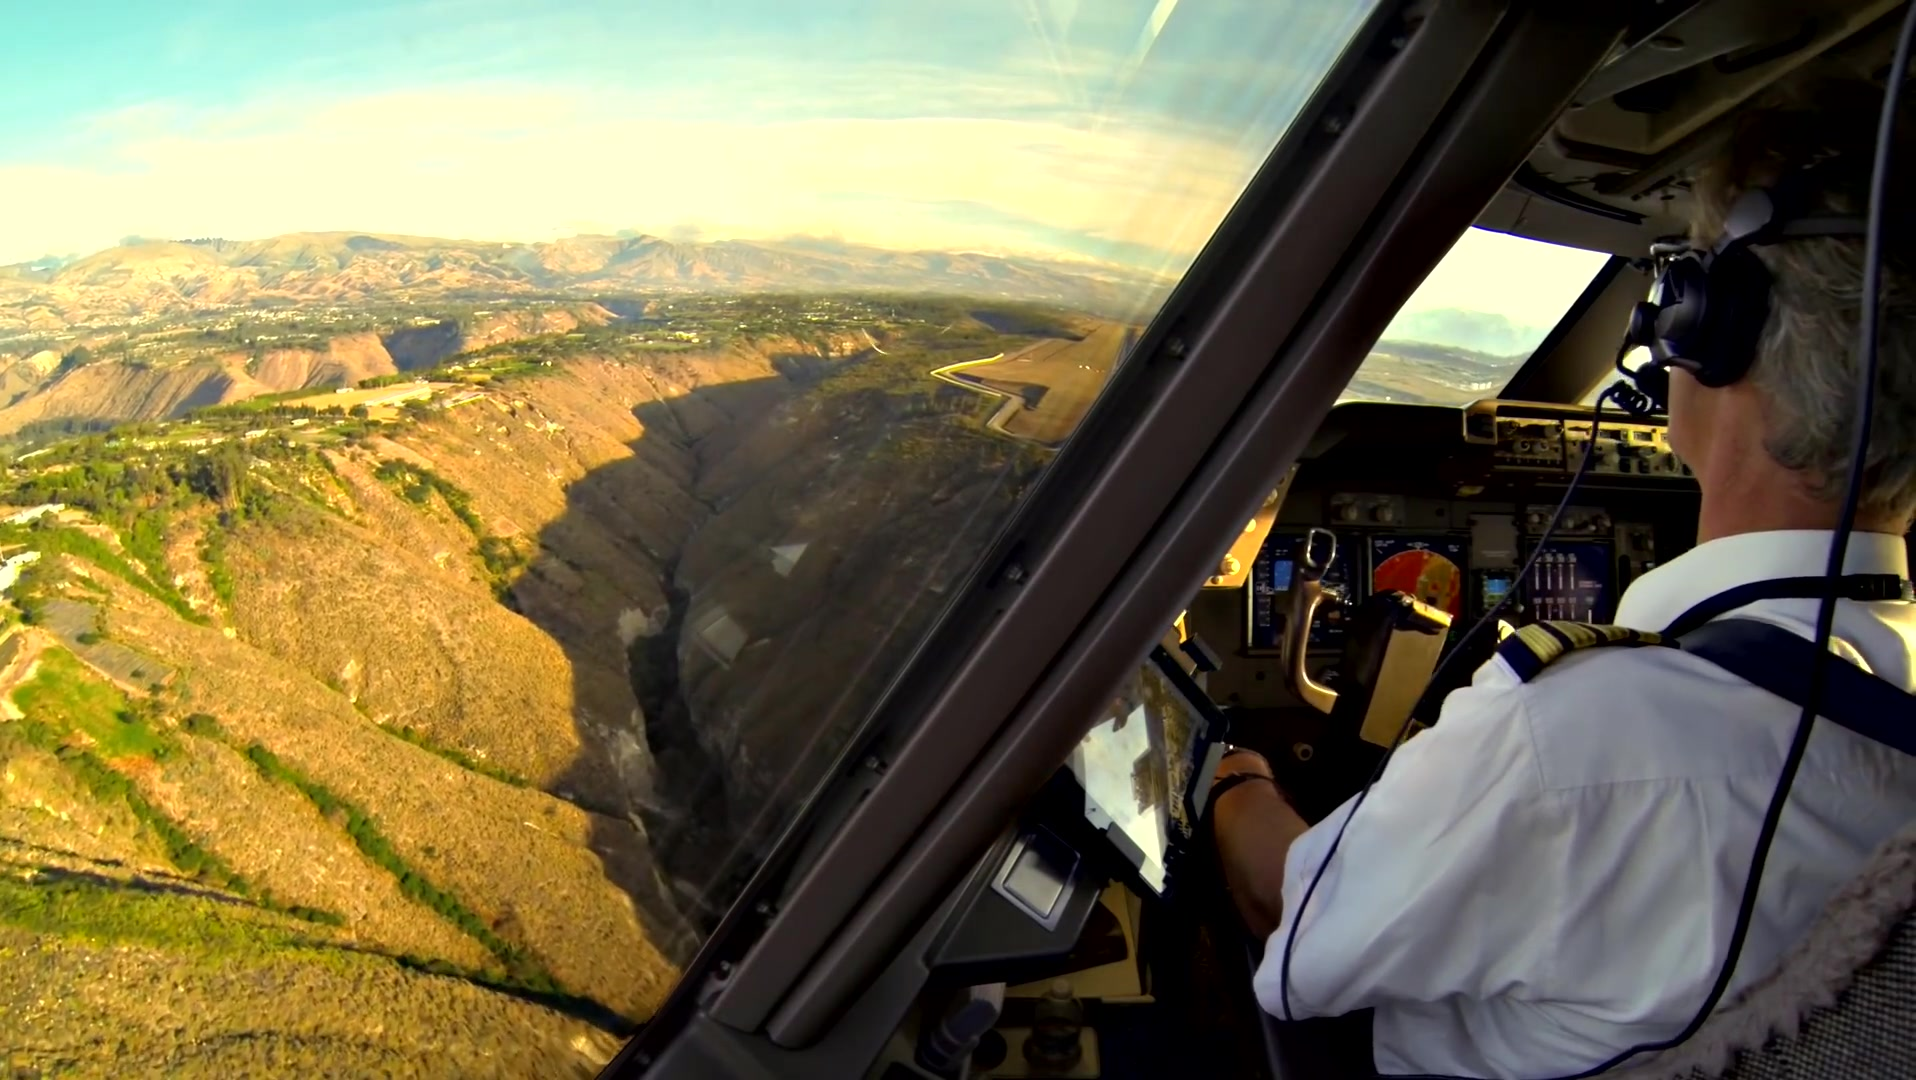runway: (1107, 324, 1142, 400)
